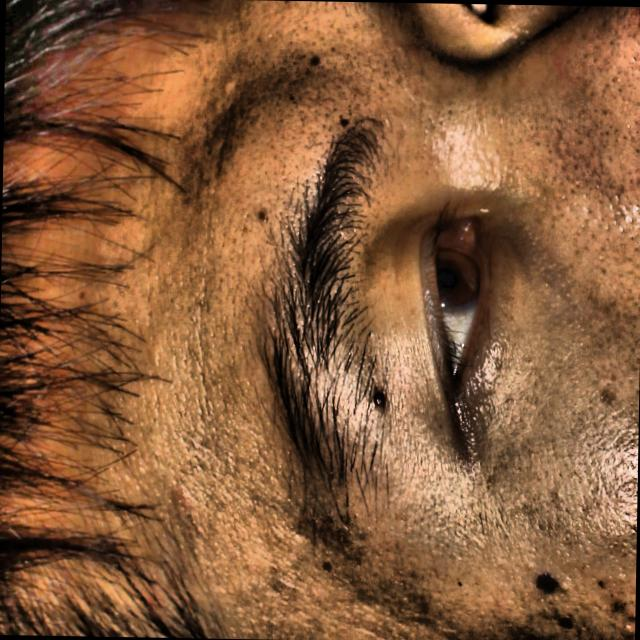whiteheads: (254, 203, 271, 225), (333, 114, 352, 132), (305, 50, 321, 70)
